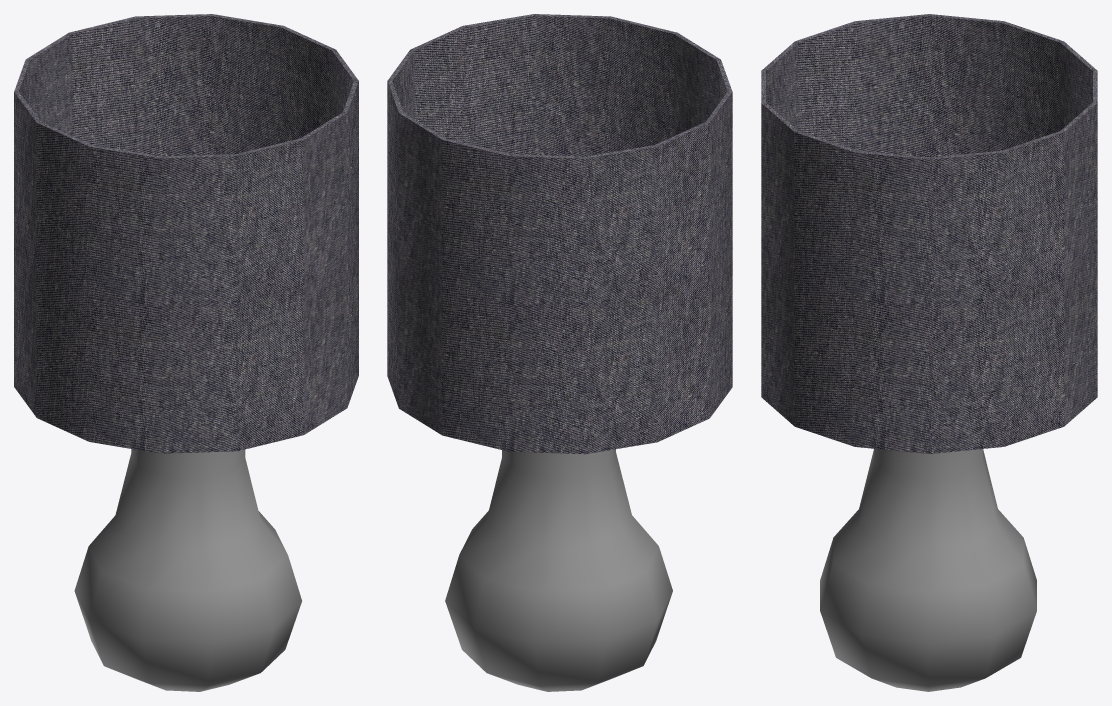
File: PROPS_lamp_01.FBX
The picture shows the model from 3 angles, left to right: view 1: azimuth 30°, elevation 25°; view 2: azimuth 150°, elevation 25°; view 3: azimuth 270°, elevation 25°; orthographic projection.
Visible parts, largest first — view 1: PROPS_lamp_01; view 2: PROPS_lamp_01; view 3: PROPS_lamp_01.
Boxes of the visible parts, <box> form: PROPS_lamp_01: <box>14,14,358,691</box>; PROPS_lamp_01: <box>387,14,732,691</box>; PROPS_lamp_01: <box>761,14,1097,691</box>.
Size of the model in its own units: 34.49 by 64.17 by 33.62.
Materials: 2 (1 with a texture image).
